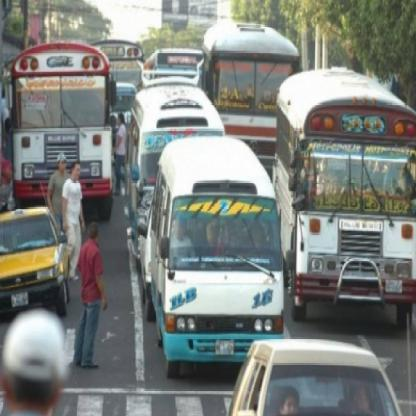bus: (277, 67, 416, 323), (152, 142, 286, 364), (15, 48, 113, 212), (207, 25, 290, 162), (134, 86, 213, 150)
car: (233, 345, 408, 416), (2, 209, 69, 311)
